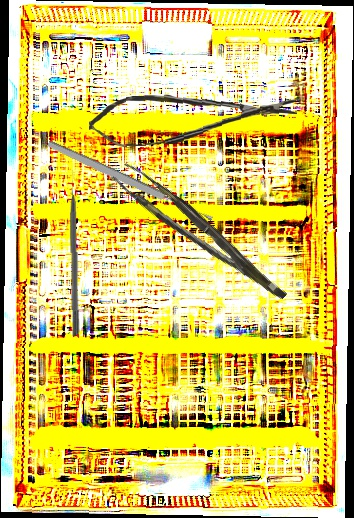Micro Scissor: (87, 87, 299, 149)
Pusher: (69, 169, 81, 336)
Surgical Spoon: (46, 138, 214, 225)
Tissue Forceps: (111, 152, 288, 320)
